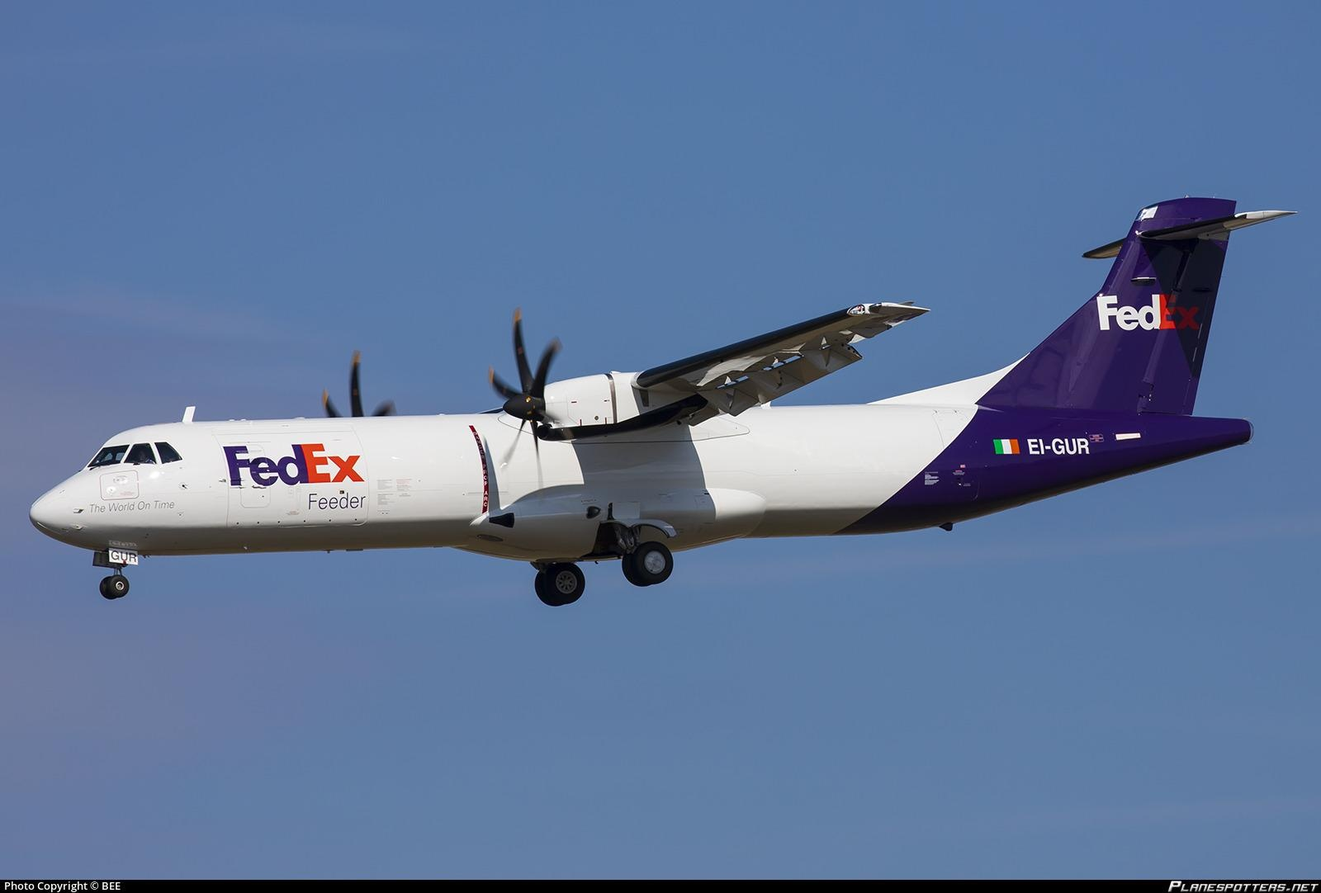aircraft: (50, 219, 1284, 607)
